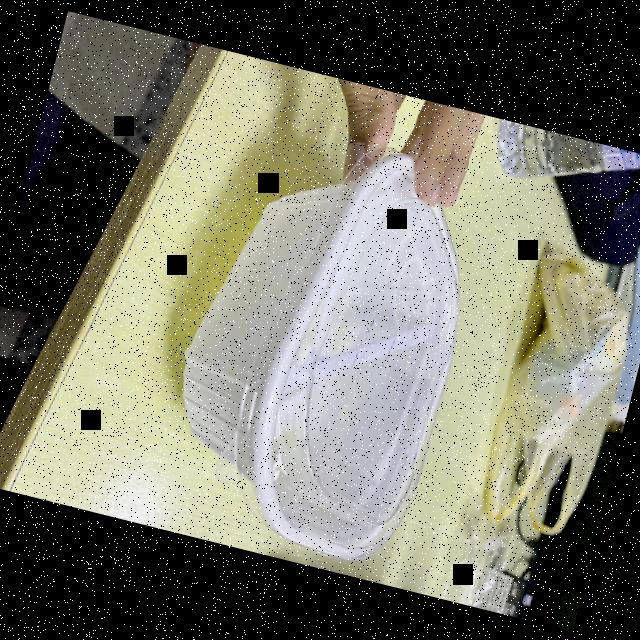plastic_box: (130, 104, 507, 576)
